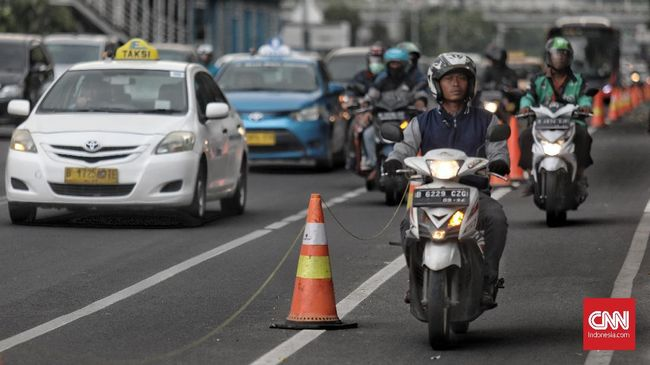plate: (410, 189, 468, 208), (65, 166, 118, 184), (238, 131, 276, 146), (536, 119, 569, 130), (377, 111, 405, 120)
